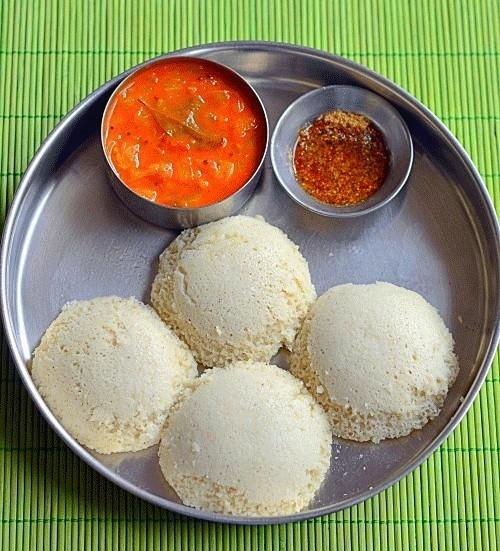Idli: (160, 358, 334, 522), (287, 280, 455, 443), (37, 298, 195, 466), (151, 215, 311, 361)
